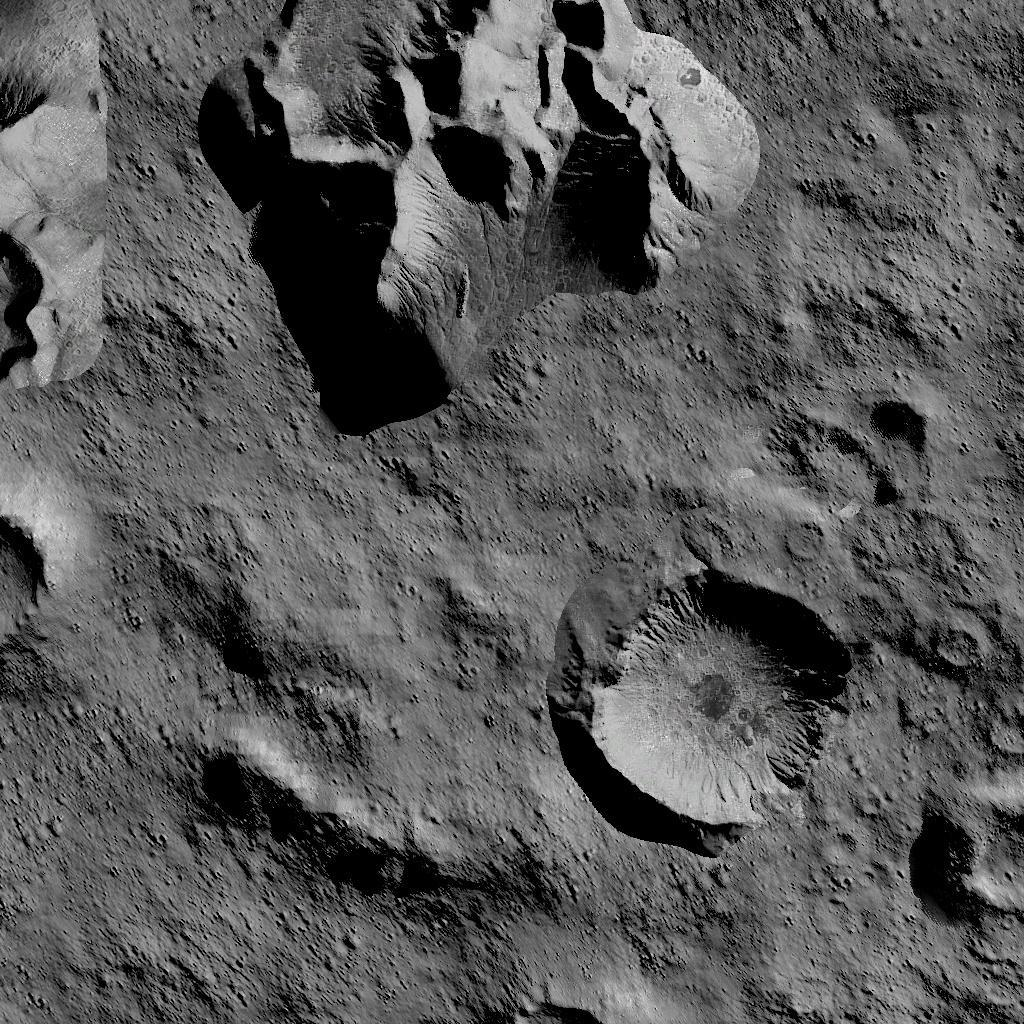Boulders: (204, 0, 752, 435), (196, 740, 558, 915), (0, 2, 111, 388)
Crater: (581, 560, 853, 830), (901, 780, 1024, 923), (0, 510, 58, 665), (498, 988, 608, 1024)
Plan surface: (768, 2, 1024, 390), (0, 678, 186, 1024), (200, 928, 486, 1024)
